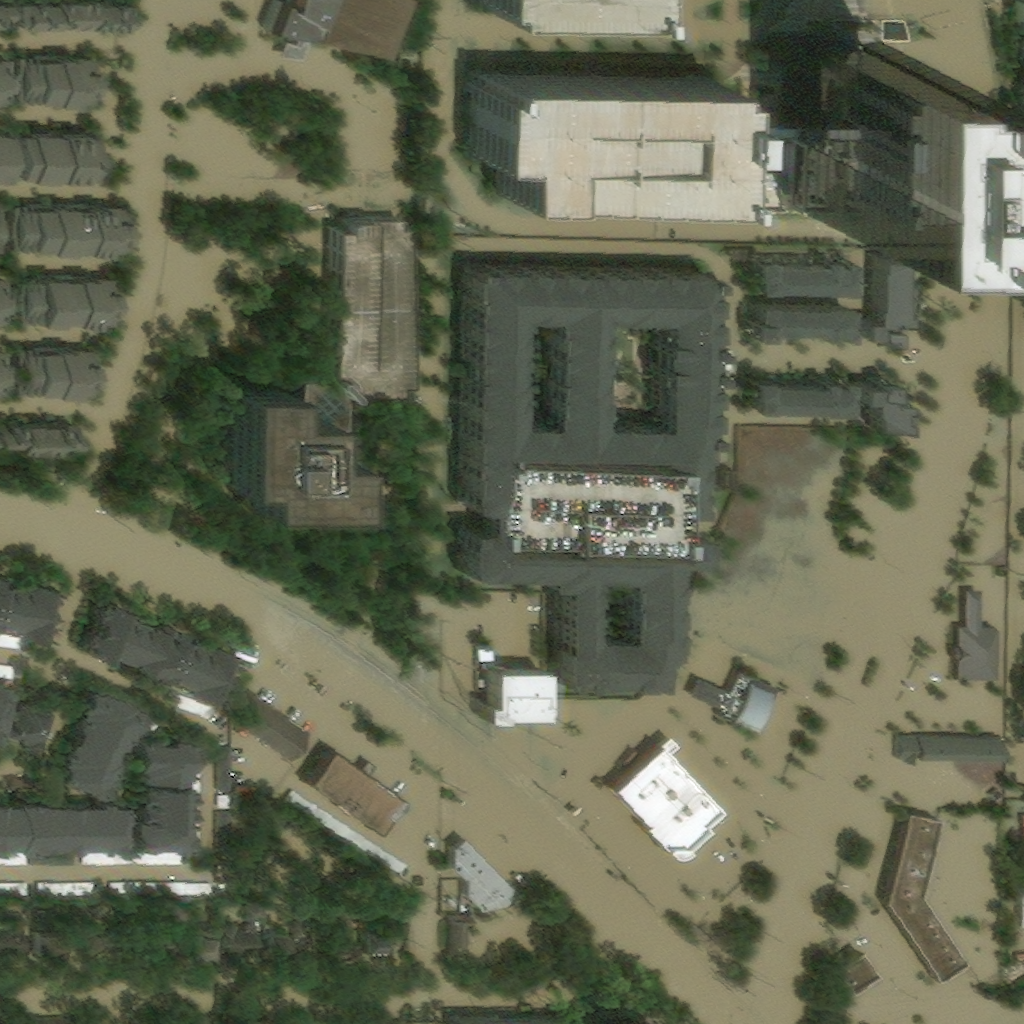destroyed: (10, 0, 126, 23)
major_damage: (458, 247, 725, 682), (213, 204, 410, 507), (467, 41, 725, 202), (784, 0, 870, 210), (76, 586, 231, 693), (883, 803, 963, 980), (451, 966, 685, 1023), (609, 732, 719, 852), (50, 678, 139, 792), (303, 742, 401, 836), (265, 0, 400, 59), (308, 802, 410, 877), (5, 192, 122, 256), (130, 728, 190, 852), (0, 792, 122, 851), (14, 266, 114, 327), (234, 684, 311, 762), (449, 833, 519, 912), (10, 46, 93, 110), (948, 586, 998, 686), (13, 338, 92, 400), (746, 367, 848, 413), (12, 120, 92, 177), (857, 248, 905, 343), (748, 295, 848, 340), (749, 246, 850, 290), (479, 657, 545, 720), (897, 731, 1008, 766), (0, 566, 50, 634), (721, 675, 778, 730), (858, 369, 903, 431), (8, 696, 55, 755), (0, 412, 75, 448), (362, 902, 409, 956), (315, 902, 354, 961), (827, 944, 876, 989), (38, 883, 185, 897), (465, 0, 636, 12), (270, 902, 318, 942), (84, 853, 189, 869), (167, 690, 216, 723), (221, 922, 263, 959), (0, 914, 31, 960), (190, 747, 204, 843), (37, 919, 71, 954), (218, 796, 236, 854), (174, 930, 215, 955), (540, 342, 595, 359), (450, 916, 475, 951), (218, 746, 234, 791), (33, 852, 78, 867), (0, 884, 32, 901), (463, 312, 513, 322), (0, 634, 25, 653), (0, 853, 30, 868), (245, 900, 265, 922), (184, 884, 216, 897), (551, 595, 581, 607), (0, 664, 18, 683), (171, 904, 189, 921), (404, 49, 419, 59), (1012, 949, 1022, 961)
